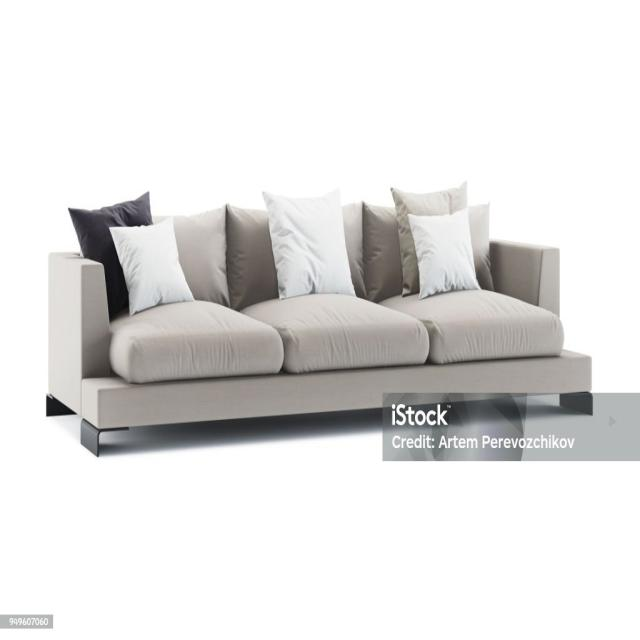back_cushion: (79, 191, 492, 315)
base: (81, 352, 588, 429)
left_arm: (491, 240, 559, 315)
legs: (81, 418, 108, 456), (560, 393, 592, 414), (47, 395, 66, 416)
right_arm: (49, 253, 109, 414)
seat_cushion: (109, 290, 563, 383)
stallion-sofa: (0, 0, 639, 639)
